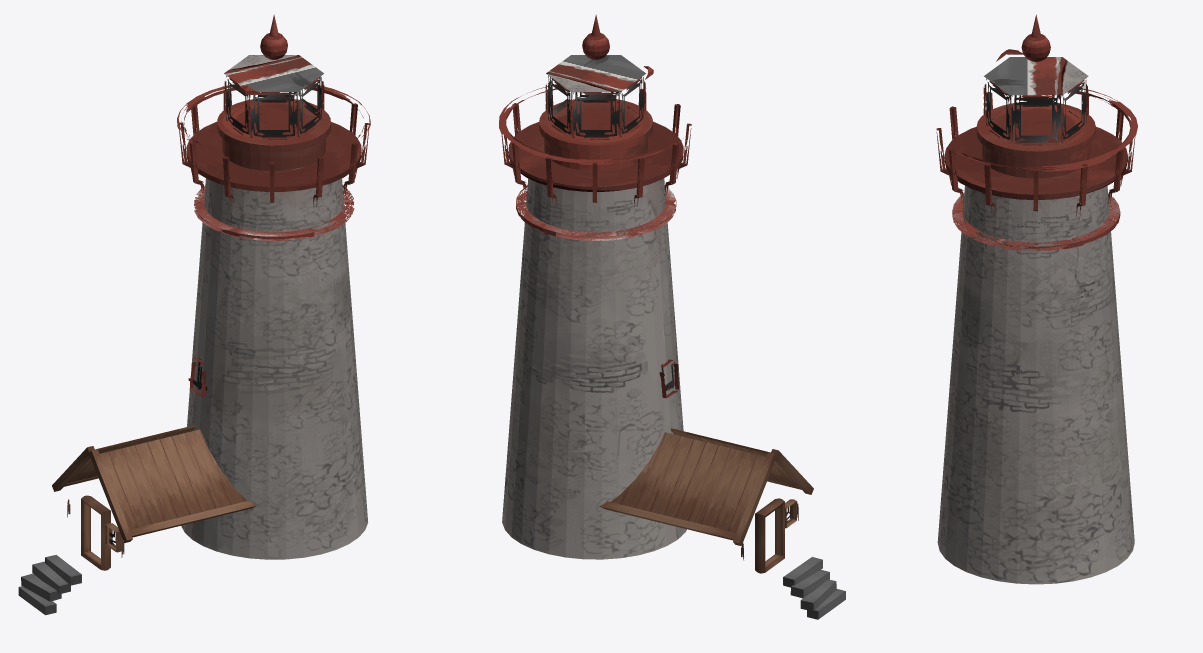
Rendered from Lighthouse01.fbx.
The picture shows the model from 3 angles, left to right: view 1: azimuth 30°, elevation 25°; view 2: azimuth 150°, elevation 25°; view 3: azimuth 270°, elevation 25°; orthographic projection. The views are drawn at different scales.
Visible parts, largest first — view 1: Lighthouse01; view 2: Lighthouse01; view 3: Lighthouse01.
Boxes of the visible parts, x1,y1,x2,y2 form: Lighthouse01: (18,14,370,615); Lighthouse01: (499,14,845,619); Lighthouse01: (936,14,1137,584).
Size of the model in its own units: 16.16 by 22.55 by 11.1.
6 materials, 6 textured.
